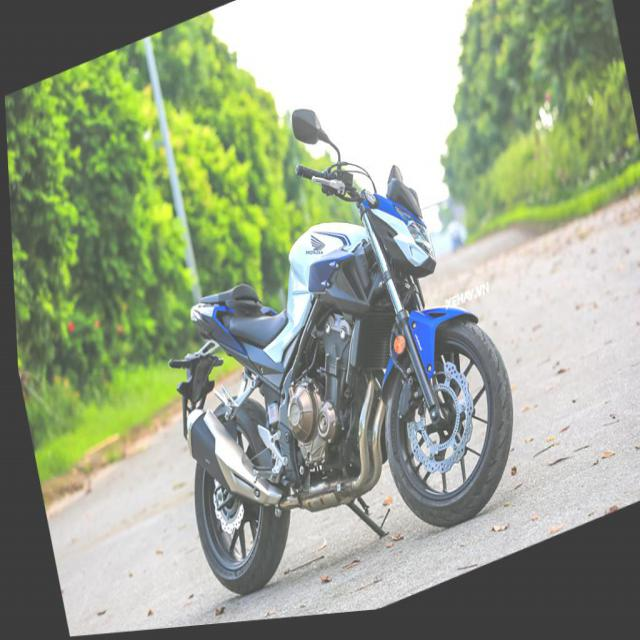CB500F: (132, 107, 534, 630)
